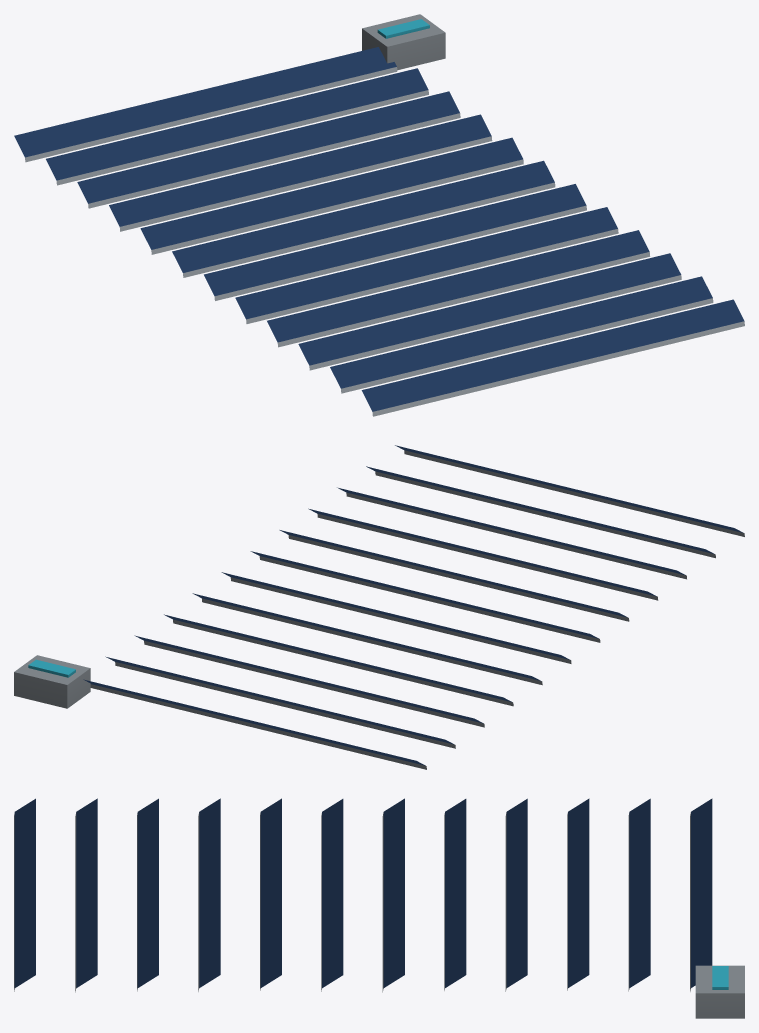
File: plant_solar_l2.fbx
3 views of the same model, one above another, from view 1: azimuth 30°, elevation 25°; view 2: azimuth 150°, elevation 25°; view 3: azimuth 270°, elevation 25° (orthographic). The views are drawn at different scales.
Visible parts, largest first — view 1: plant_solar_l2; view 2: plant_solar_l2; view 3: plant_solar_l2.
Boxes of the visible parts, x1,y1,x2,y2 form: plant_solar_l2: (14,14,744,416); plant_solar_l2: (14,445,744,769); plant_solar_l2: (14,798,744,1018).
Bounding box in the file's own units: 58 × 3.8 × 89.2.
